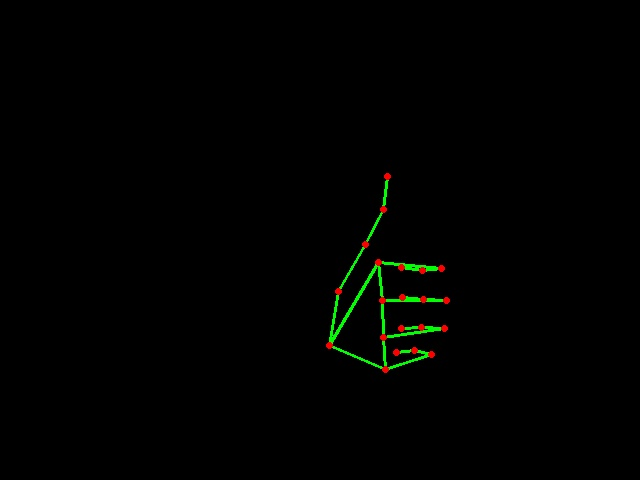fast: (322, 157, 458, 386)
